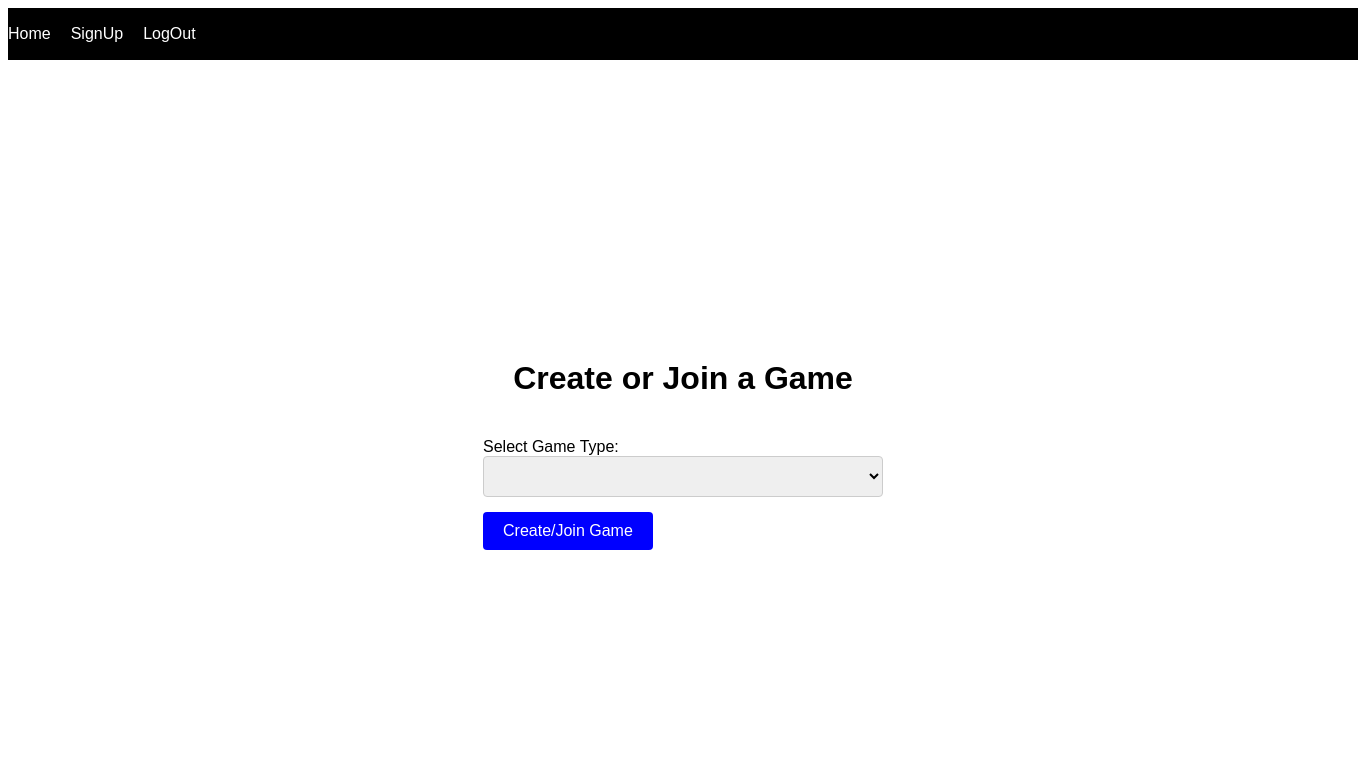
Test: Login Test › Try to create a game before login
Select "Join any game" in the dropdown with id "selectGame" at x=683, y=477, box x1=483 y1=456 x2=883 y2=497
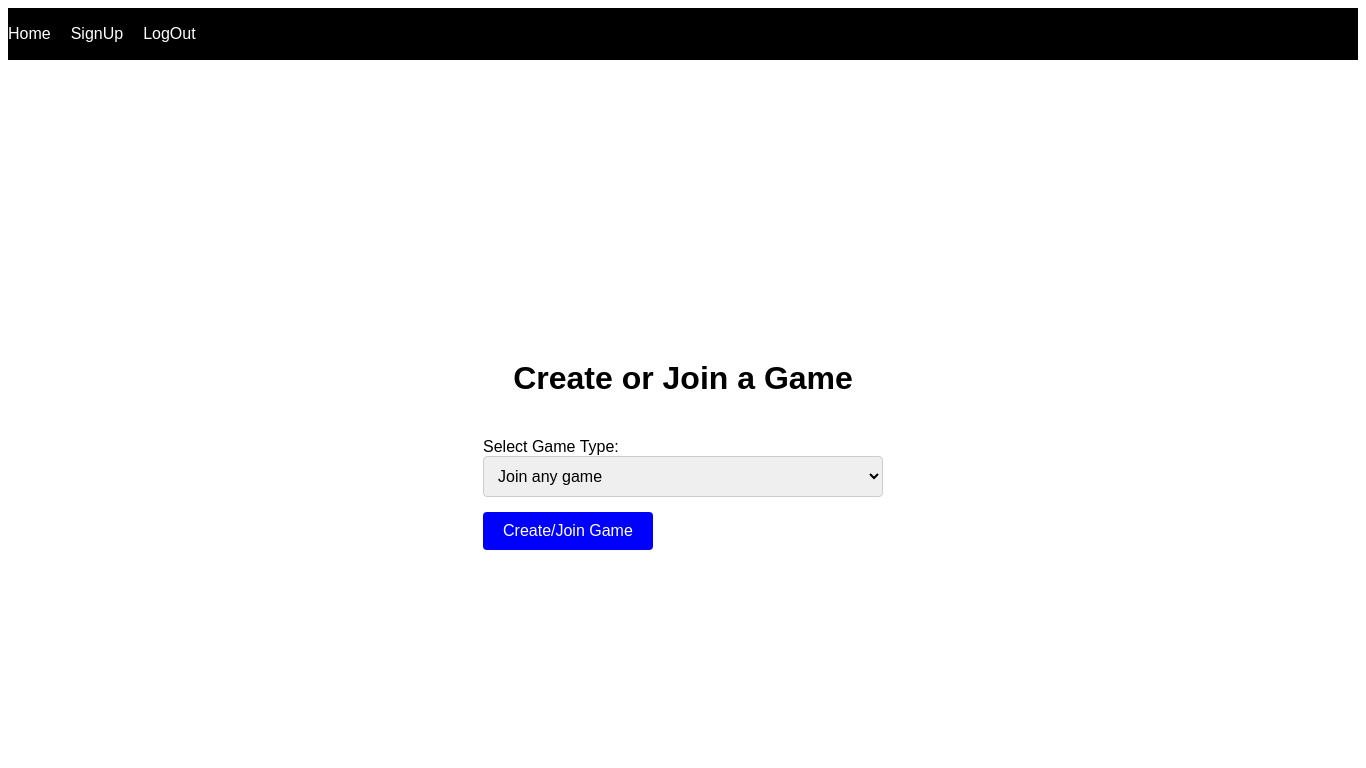
Click the button with test id "createGame-button".
click(568, 531)  # box x1=483 y1=512 x2=653 y2=550
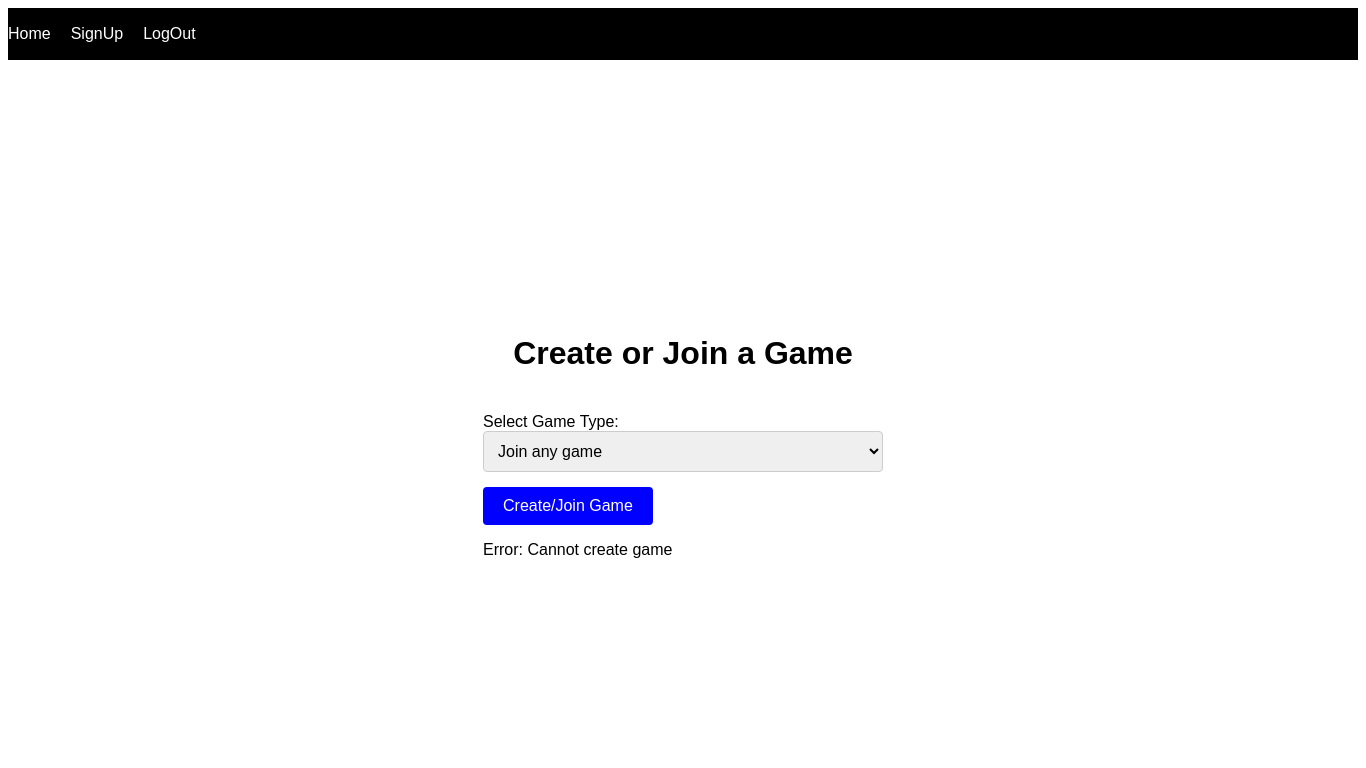
Check: the text "Error: Cannot create game" is shown, box x1=483 y1=541 x2=672 y2=558
